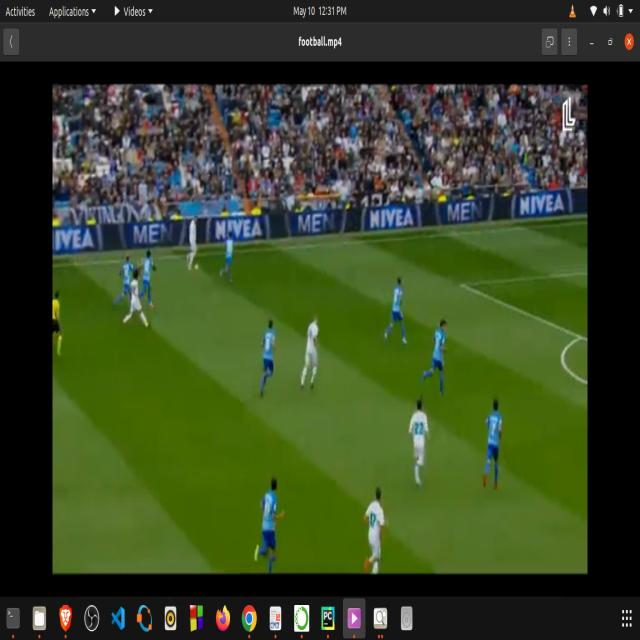Ball: (194, 262, 201, 272)
Refree: (52, 280, 64, 366)
football-players: (479, 384, 512, 506), (251, 470, 289, 570), (385, 258, 413, 354), (425, 308, 452, 400), (362, 482, 388, 574), (298, 311, 324, 402), (408, 392, 430, 499), (256, 310, 282, 399), (122, 266, 150, 336), (186, 215, 204, 276), (140, 248, 158, 309), (116, 254, 134, 307), (221, 228, 236, 283)
